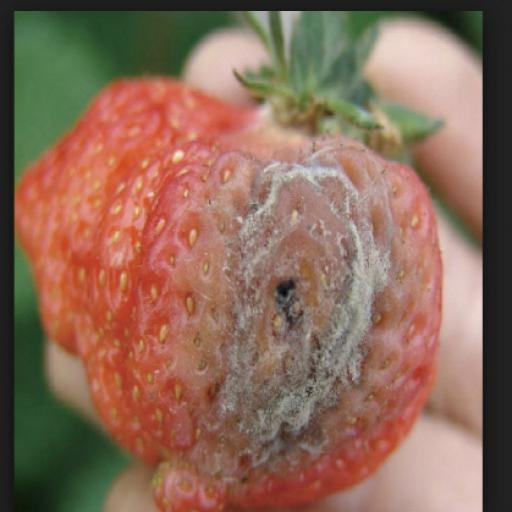Gray Mold: (70, 104, 397, 511)
